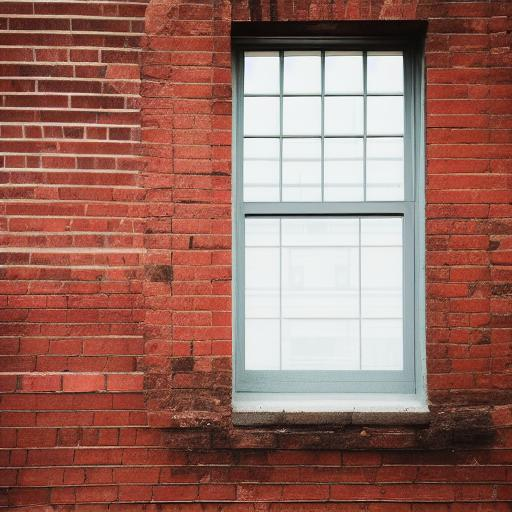Window: (223, 20, 434, 431)
